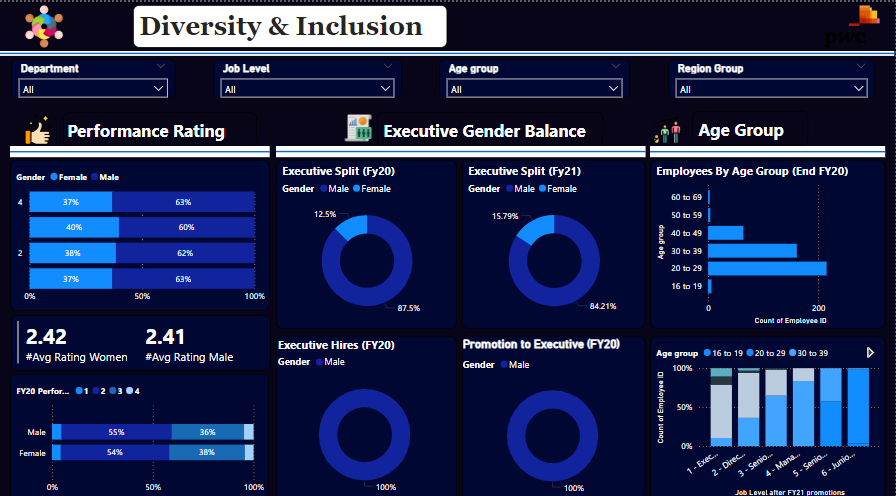

This screenshot's page, from the dashboard's own definition file:
{"tool":"powerbi","page":{"name":"Page 2","canvas":[1280,720],"ordinal":1},"visuals":[{"type":"group","id":"g1","title":"Group 1","box":[16.5,81,1235,56],"z":0},{"type":"image","box":[22,0,85.1,70],"z":1000},{"type":"slicer","fields":{"Values":["Pharma.Last Department in FY20"]},"box":[16.5,81,234.6,56],"z":1000,"group":"g1"},{"type":"textbox","box":[191.4,4.3,448.6,61.4],"z":2000},{"type":"slicer","fields":{"Values":["Pharma.Job Level after FY20 promotions"]},"box":[304.7,81,270.3,56],"z":2000,"group":"g1"},{"type":"image","box":[1170.5,0,96.1,70],"z":3000},{"type":"slicer","fields":{"Values":["Pharma.Age group"]},"box":[628.5,81,273.1,56],"z":3000,"group":"g1"},{"type":"shape","box":[0,70,1278.9,6.9],"z":4000},{"type":"slicer","fields":{"Values":["Pharma.Broad region group: nationality 1"]},"box":[955.1,81,296.4,56],"z":4000,"group":"g1"},{"type":"hundredPercentStackedBarChart","fields":{"Category":["Pharma.FY20 Performance Rating"],"Y":["CountNonNull(Pharma.Employee ID)"],"Series":["Pharma.Gender"]},"box":[16.2,226.2,371.2,215],"z":5000},{"type":"multiRowCard","fields":{"Values":["Pharma.#Avg Female Rating","Pharma.#Avg Male Rating"]},"box":[16.4,447.1,371.4,78.6],"z":6000},{"type":"hundredPercentStackedBarChart","fields":{"Category":["Pharma.Gender"],"Y":["Count(Pharma.Employee ID)"],"Series":["Pharma.FY20 Performance Rating"]},"box":[16.4,530.9,370,181.8],"z":7000},{"type":"textbox","box":[91.9,156.4,277.2,49.4],"z":8000},{"type":"image","box":[22,152.3,70,56.3],"z":9000},{"type":"donutChart","title":"Executive Split (Fy20)","fields":{"Category":["Pharma.Gender"],"Y":["CountNonNull(Pharma.Employee ID)"]},"box":[395.5,226.4,258.2,240.9],"z":10000},{"type":"donutChart","title":"Executive Split (Fy21)","fields":{"Category":["Pharma.Gender"],"Y":["CountNonNull(Pharma.Employee ID)"]},"box":[660.9,226.4,261.8,240.9],"z":11000},{"type":"clusteredBarChart","title":"Employees By Age Group (End FY20)","fields":{"Category":["Pharma.Age group"],"Y":["CountNonNull(Pharma.Employee ID)"]},"box":[930,226.2,336.2,241.2],"z":12000},{"type":"donutChart","title":"Executive Hires (FY20)","fields":{"Category":["Pharma.Gender"],"Y":["CountNonNull(Pharma.Employee ID)"]},"box":[395.5,477.3,258.2,235.5],"z":13000},{"type":"donutChart","title":"Promotion to Executive (FY20)","fields":{"Category":["Pharma.Gender"],"Y":["CountNonNull(Pharma.Employee ID)"]},"box":[660.9,477.3,261.8,235.5],"z":14000},{"type":"hundredPercentStackedColumnChart","fields":{"Series":["Pharma.Age group"],"Category":["Pharma.Job Level after FY21 promotions"],"Y":["CountNonNull(Pharma.Employee ID)"]},"box":[930,477.3,336.4,235.5],"z":15000},{"type":"textbox","box":[540,157,322.6,49],"z":16000},{"type":"image","box":[487,152.3,52.1,53.5],"z":17000},{"type":"textbox","box":[989.5,155.8,166.3,49.5],"z":18000},{"type":"image","box":[930.4,159.2,49.4,49.4],"z":19000},{"type":"shape","box":[16.4,206.4,370.9,16.4],"z":20000},{"type":"shape","box":[395.3,206.3,527.9,15.8],"z":21000},{"type":"shape","box":[930,206.3,336.3,16.3],"z":22000}]}

Visuals, with their boxes in screenshot pixels (x1, y1, x2, y2), scaled from the page's 1280x720 canvas onto the 896x496 screenshot:
"Group 1" group: x1=12, y1=56, x2=876, y2=94
image: x1=15, y1=0, x2=75, y2=48
slicer - Pharma.Last Department in FY20: x1=12, y1=56, x2=176, y2=94
textbox: x1=134, y1=3, x2=448, y2=45
slicer - Pharma.Job Level after FY20 promotions: x1=213, y1=56, x2=402, y2=94
image: x1=819, y1=0, x2=887, y2=48
slicer - Pharma.Age group: x1=440, y1=56, x2=631, y2=94
shape: x1=0, y1=48, x2=895, y2=53
slicer - Pharma.Broad region group: nationality 1: x1=669, y1=56, x2=876, y2=94
hundredPercentStackedBarChart - Pharma.FY20 Performance Rating x CountNonNull(Pharma.Employee ID): x1=11, y1=156, x2=271, y2=304
multiRowCard - Pharma.#Avg Female Rating x Pharma.#Avg Male Rating: x1=11, y1=308, x2=271, y2=362
hundredPercentStackedBarChart - Pharma.Gender x Count(Pharma.Employee ID): x1=11, y1=366, x2=270, y2=491
textbox: x1=64, y1=108, x2=258, y2=142
image: x1=15, y1=105, x2=64, y2=144
"Executive Split (Fy20)" donutChart: x1=277, y1=156, x2=458, y2=322
"Executive Split (Fy21)" donutChart: x1=463, y1=156, x2=646, y2=322
"Employees By Age Group (End FY20)" clusteredBarChart: x1=651, y1=156, x2=886, y2=322
"Executive Hires (FY20)" donutChart: x1=277, y1=329, x2=458, y2=491
"Promotion to Executive (FY20)" donutChart: x1=463, y1=329, x2=646, y2=491
hundredPercentStackedColumnChart - Pharma.Age group x Pharma.Job Level after FY21 promotions: x1=651, y1=329, x2=886, y2=491
textbox: x1=378, y1=108, x2=604, y2=142
image: x1=341, y1=105, x2=377, y2=142
textbox: x1=693, y1=107, x2=809, y2=141
image: x1=651, y1=110, x2=686, y2=144
shape: x1=11, y1=142, x2=271, y2=153
shape: x1=277, y1=142, x2=646, y2=153
shape: x1=651, y1=142, x2=886, y2=153
